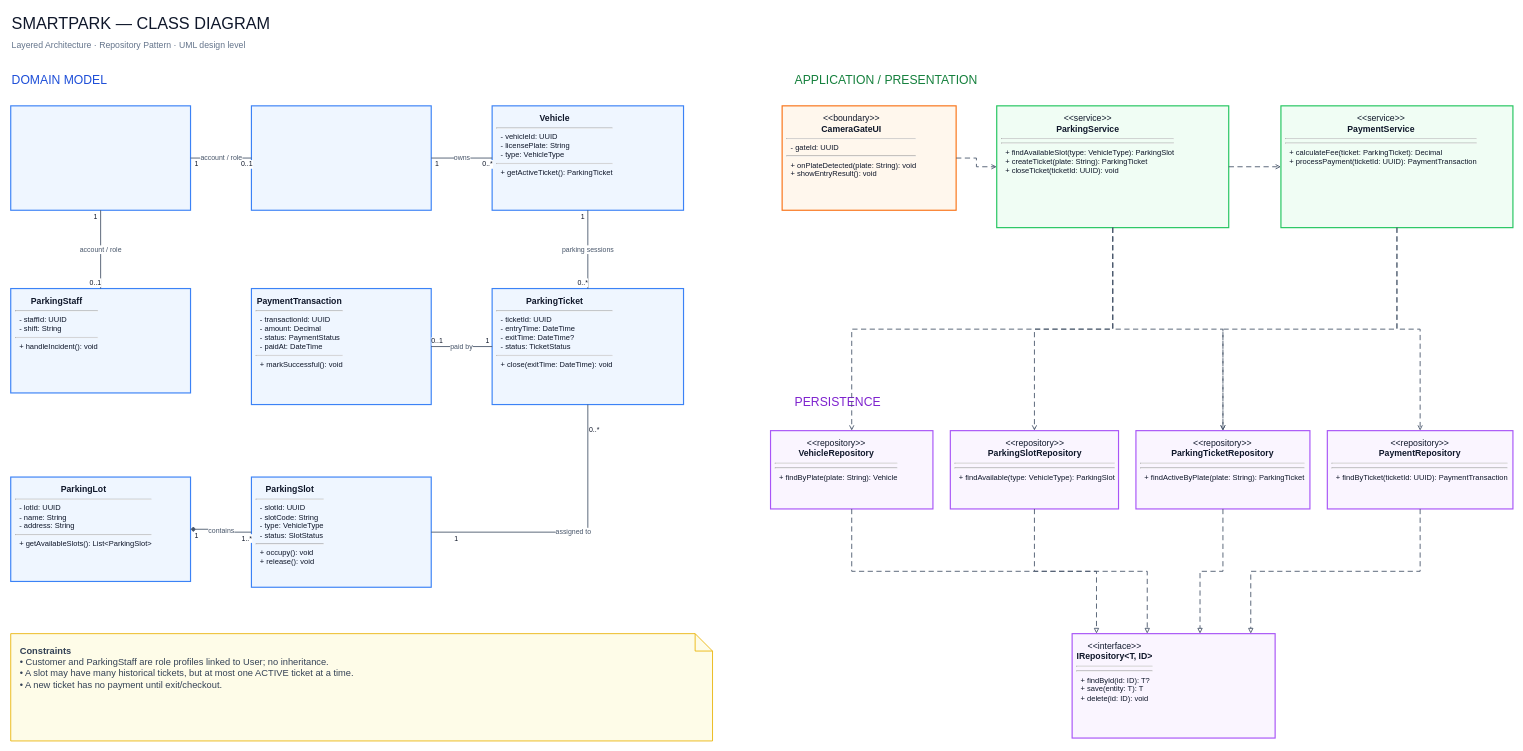
Some shapes in this 1523 by 751 pixel diagram are drawn without their labels. Here are the shapes that lost their labels. From the top down, the centre of each, then its label:
At [100,158]: "User - userId: UUID - fullName: String - email: String + updateProfile(): void".
At [341,158]: "Customer - customerId: UUID - phone: String + registerVehicle(v: Vehicle): void".
